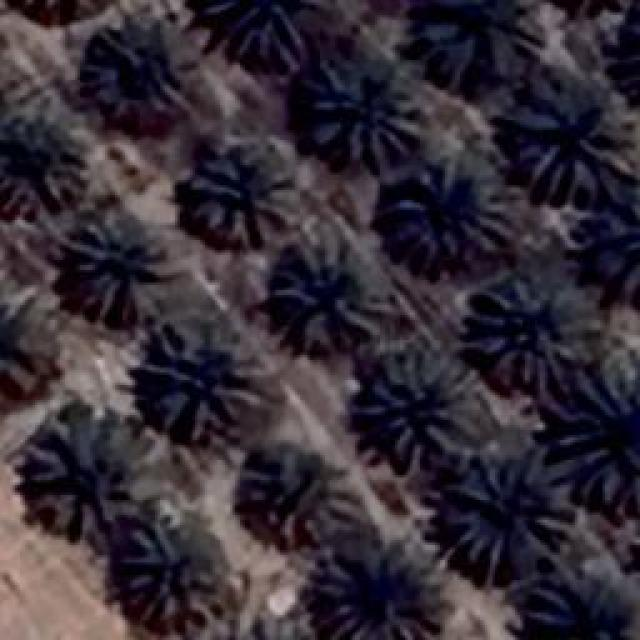PalmTree: (62, 9, 601, 260), (507, 70, 635, 200), (465, 272, 605, 390), (442, 450, 570, 572), (387, 150, 515, 272), (144, 322, 268, 442), (360, 350, 485, 465), (17, 410, 125, 540), (302, 52, 422, 168), (70, 205, 175, 320), (272, 240, 380, 350), (120, 518, 222, 632), (185, 145, 300, 245), (310, 547, 440, 635), (252, 440, 360, 542), (420, 0, 545, 80), (560, 402, 640, 526), (85, 20, 185, 115), (0, 103, 82, 218), (518, 568, 632, 638), (205, 0, 305, 65), (0, 291, 45, 401), (618, 1, 640, 116), (623, 2, 640, 118), (222, 624, 331, 640), (627, 3, 640, 116), (3, 0, 119, 10), (540, 0, 640, 10)
